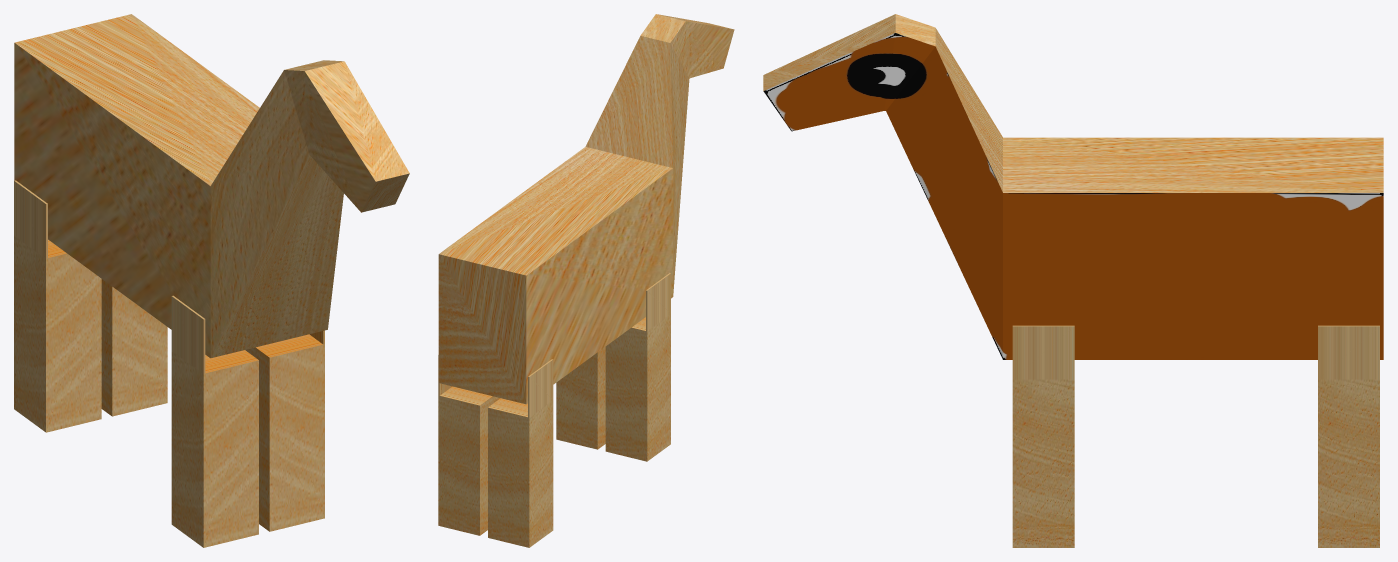
The model's file is horse_0817_2.fbx.
The picture shows the model from 3 angles, left to right: view 1: azimuth 30°, elevation 25°; view 2: azimuth 150°, elevation 25°; view 3: azimuth 270°, elevation 25°; orthographic projection. The views are drawn at different scales.
Parts seen in each view (by area): view 1: 立方体; view 2: 立方体; view 3: 立方体.005, 立方体.
Boxes of the visible parts, left/top/right/bottom form: 立方体: left=14, top=14, right=409, bottom=547; 立方体: left=438, top=14, right=734, bottom=547; 立方体.005: left=763, top=33, right=1383, bottom=359; 立方体: left=763, top=14, right=1383, bottom=547.
Bounding box in the file's own units: 43.81 × 176 × 200.
